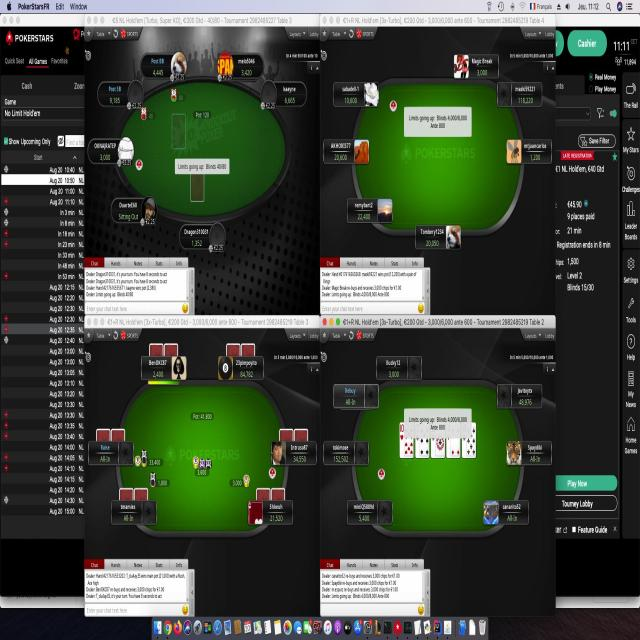10H: (398, 417, 405, 443)
8C: (462, 422, 467, 444)
